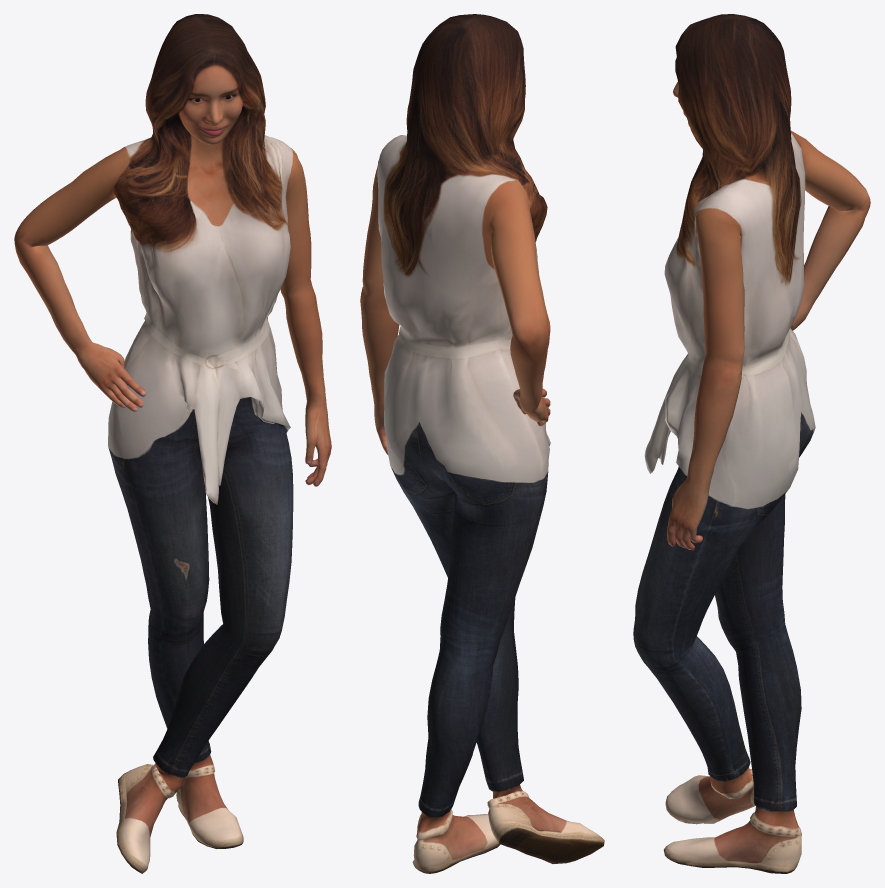
3 views of the same model, side by side, from view 1: azimuth 30°, elevation 25°; view 2: azimuth 150°, elevation 25°; view 3: azimuth 270°, elevation 25° (orthographic). The views are drawn at different scales.
Visible parts, largest first — view 1: rp_sophia_animated_003_idling_geo; view 2: rp_sophia_animated_003_idling_geo; view 3: rp_sophia_animated_003_idling_geo.
Boxes of the visible parts, box(x1,y1,x2,y2) form: rp_sophia_animated_003_idling_geo: box(14, 14, 331, 873); rp_sophia_animated_003_idling_geo: box(360, 14, 604, 873); rp_sophia_animated_003_idling_geo: box(633, 14, 870, 873).
Bounding box in the file's own units: 0.5258 × 1.7 × 0.4322.
1 material, 1 textured.
